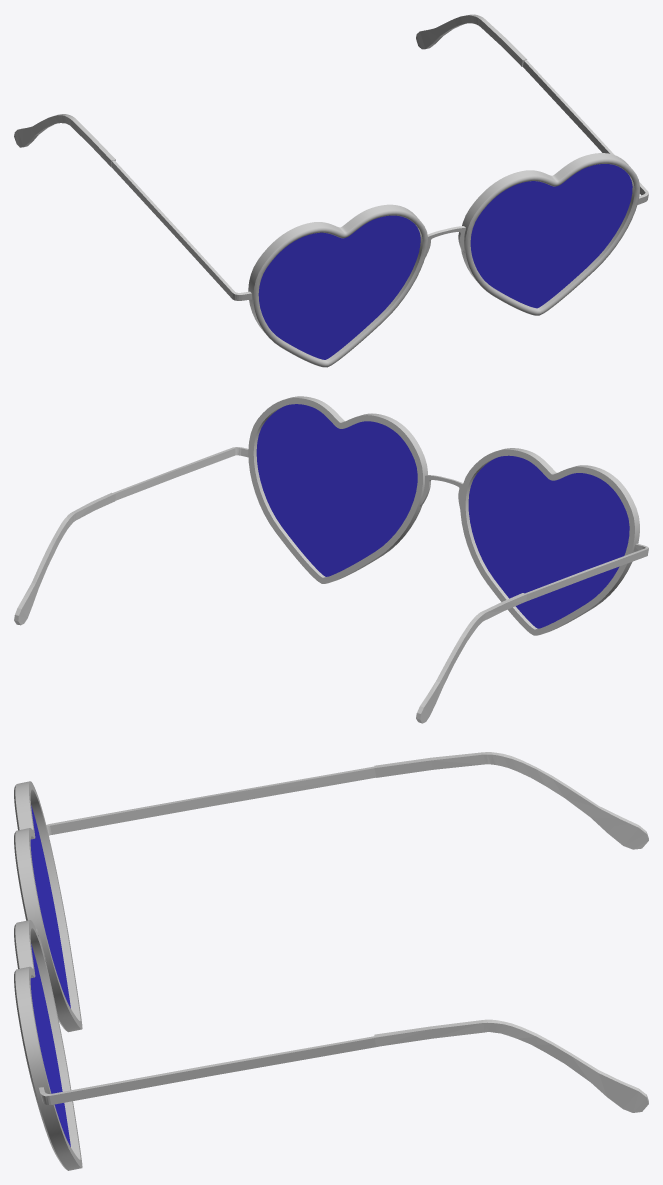
File: Heart Glasses.fbx
3 views of the same model, one above another, from view 1: azimuth 30°, elevation 25°; view 2: azimuth 150°, elevation 25°; view 3: azimuth 270°, elevation 25° (orthographic). The views are drawn at different scales.
Parts seen in each view (by area): view 1: glasses_geom, oprava_geom.001; view 2: glasses_geom, oprava_geom.001; view 3: oprava_geom.001, glasses_geom.
Boxes of the visible parts, left/top/right/bottom form: glasses_geom: left=258, top=164, right=632, bottom=359; oprava_geom.001: left=14, top=14, right=648, bottom=367; glasses_geom: left=256, top=404, right=629, bottom=628; oprava_geom.001: left=14, top=396, right=648, bottom=723; oprava_geom.001: left=14, top=752, right=648, bottom=1170; glasses_geom: left=30, top=805, right=70, bottom=1146.
Size of the model in its own units: 16.87 by 6.35 by 16.64.
